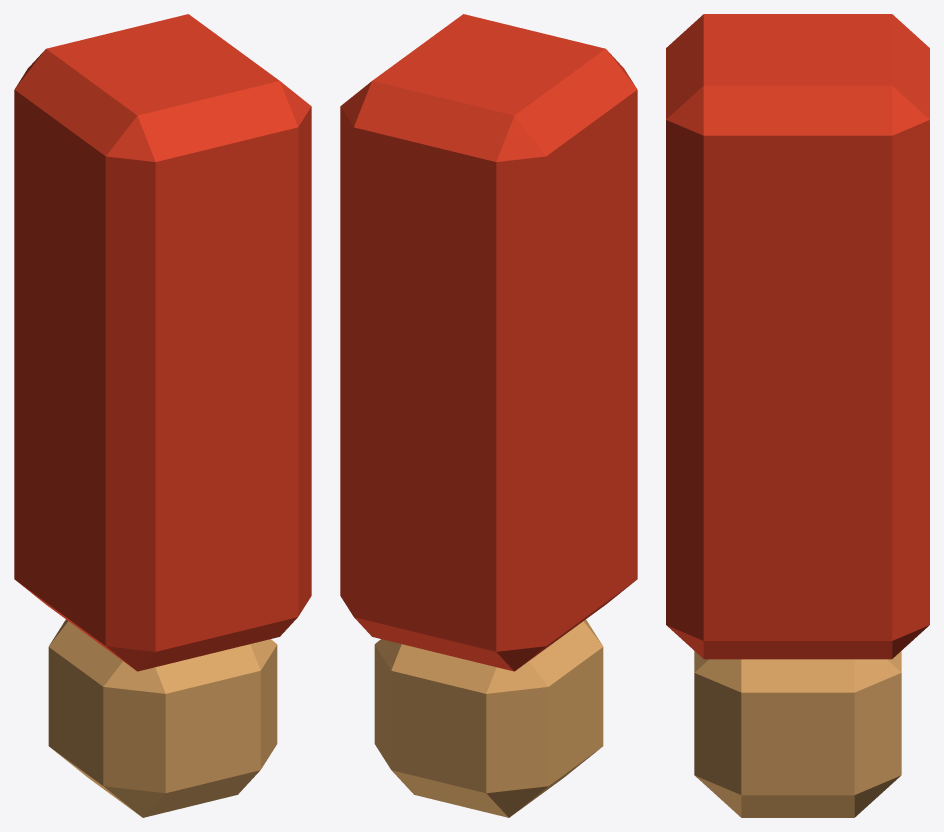
The model's file is skater_arm.glb.
3 views of the same model, side by side, from view 1: azimuth 30°, elevation 25°; view 2: azimuth 150°, elevation 25°; view 3: azimuth 270°, elevation 25° (orthographic). The views are drawn at different scales.
Visible parts, largest first — view 1: ArmS; view 2: ArmS; view 3: ArmS.
Boxes of the visible parts, <box> form: ArmS: <box>14,14,311,817</box>; ArmS: <box>340,14,637,817</box>; ArmS: <box>666,14,929,817</box>.
Size of the model in its own units: 0.13 by 0.4357 by 0.14.
